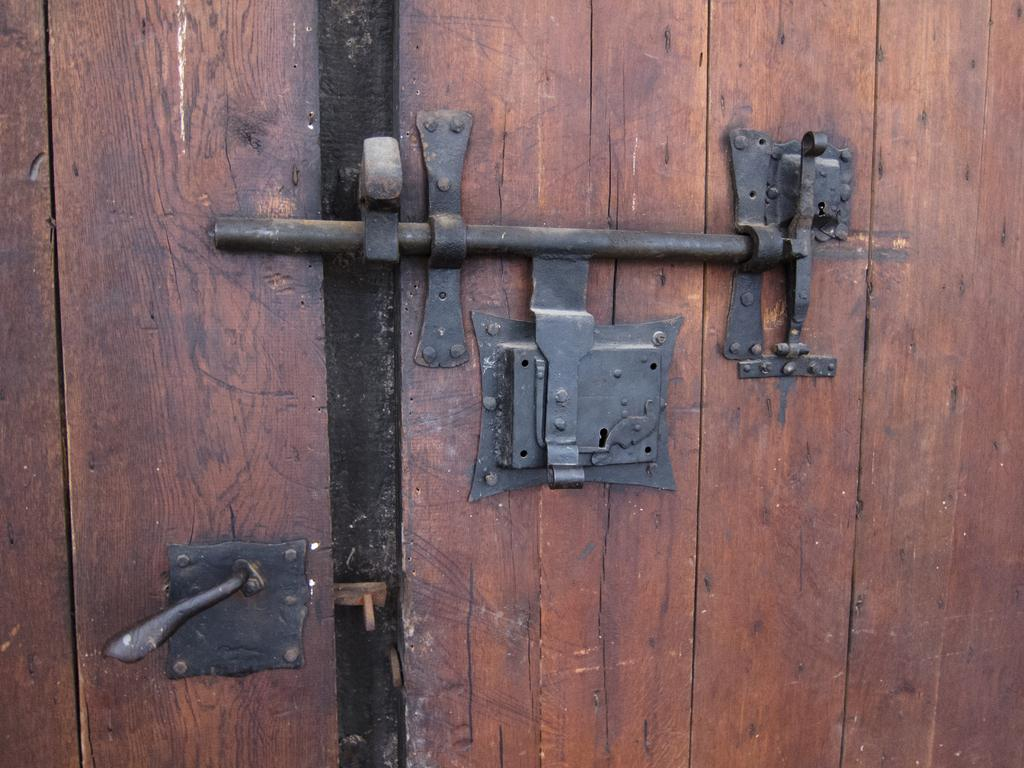handle: (115, 548, 252, 678)
